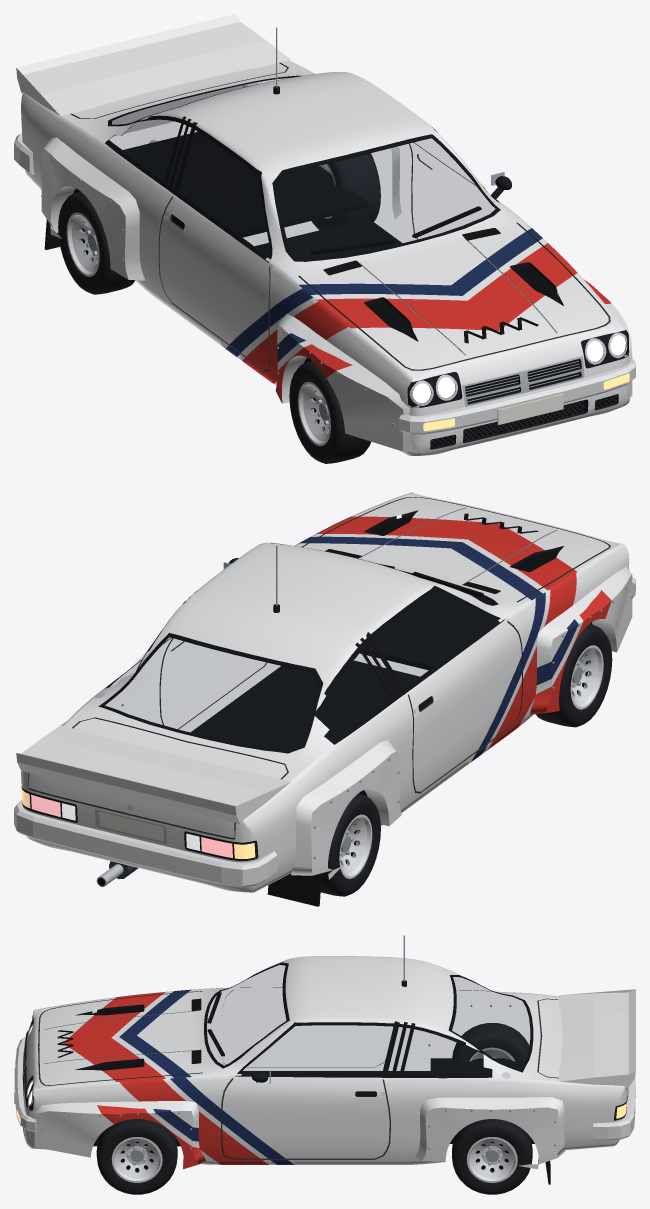
Rendered from car_rally.glb.
3 renders of one model, top to bottom at view 1: azimuth 30°, elevation 25°; view 2: azimuth 150°, elevation 25°; view 3: azimuth 270°, elevation 25°, orthographic. The views are drawn at different scales.
Visible parts, largest first — view 1: body, wheel_fl, wheel_rl, wheel_rr; view 2: body, wheel_fl, wheel_rl; view 3: body, wheel_fr, wheel_rr, wheel_rl.
Boxes of the visible parts, box(x1,y1,x2,y2) form: body: box(14, 14, 635, 455); wheel_fl: box(289, 360, 370, 463); wheel_rl: box(58, 191, 135, 294); wheel_rr: box(311, 153, 380, 230); body: box(14, 492, 635, 906); wheel_fl: box(536, 624, 612, 727); wheel_rl: box(320, 793, 380, 896); body: box(14, 935, 635, 1184); wheel_fr: box(96, 1119, 177, 1194); wheel_rr: box(452, 1119, 532, 1194); wheel_rl: box(452, 1023, 529, 1061).
Bounding box in the file's own units: 1.77 × 1.65 × 4.42.
